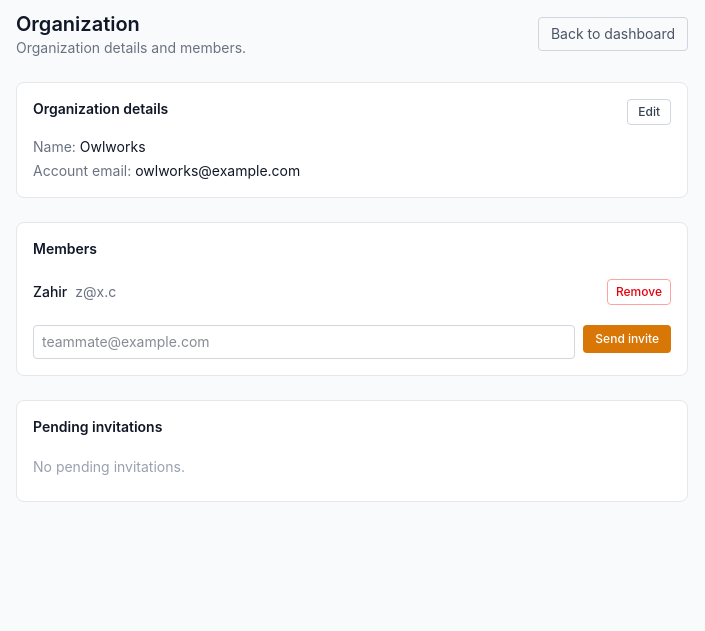
Scenario: OrganizationPage › edits and saves org details
Click the button with test id "edit-org": (649, 112) [627,99,671,125]
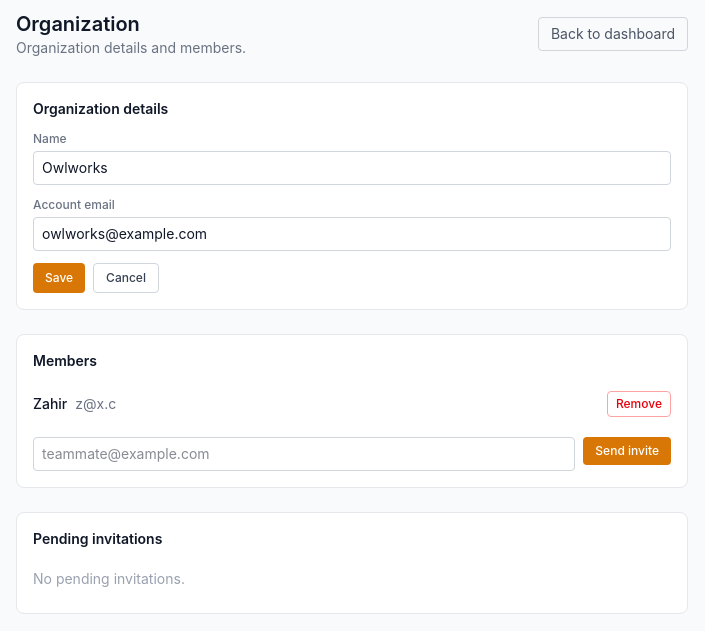
Replace the text in the field with test id "org-name-input" with "Renamed Org": (352, 168) [33,151,671,185]
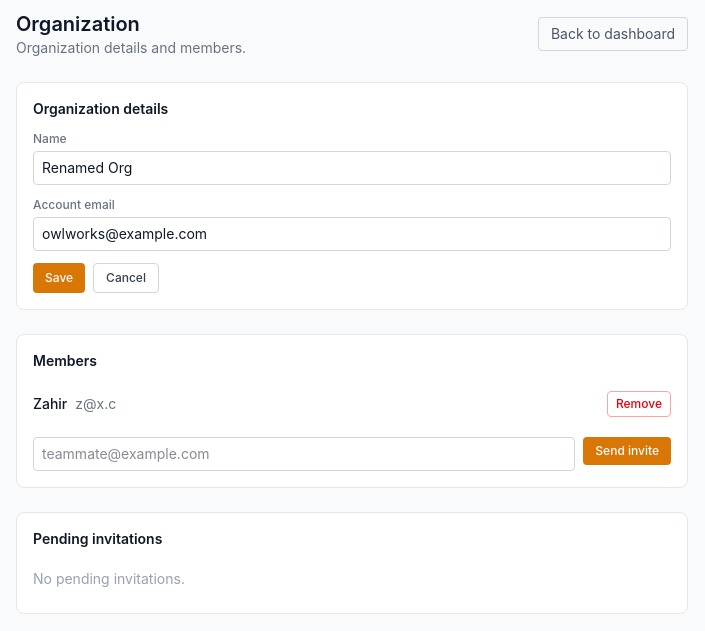
Click the button with test id "save-org": (59, 278) [33,263,85,293]
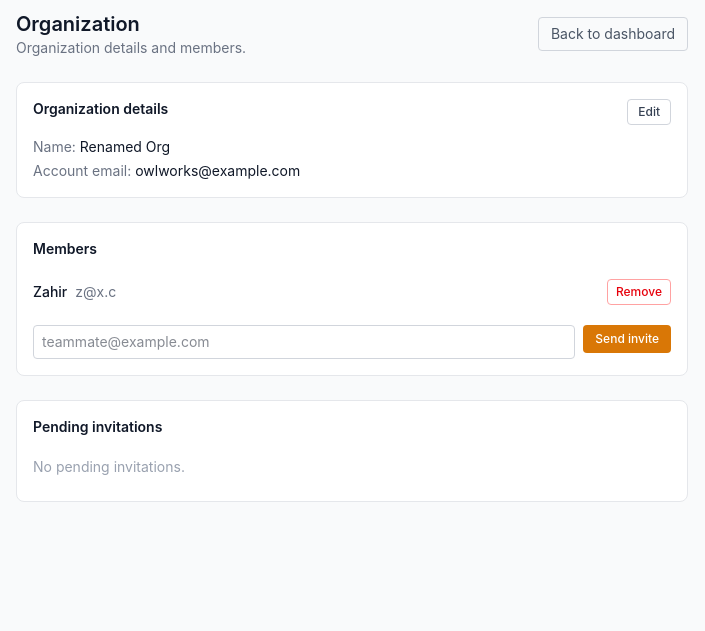
Expected: the text "Renamed Org" is shown, [76,138,170,155]
